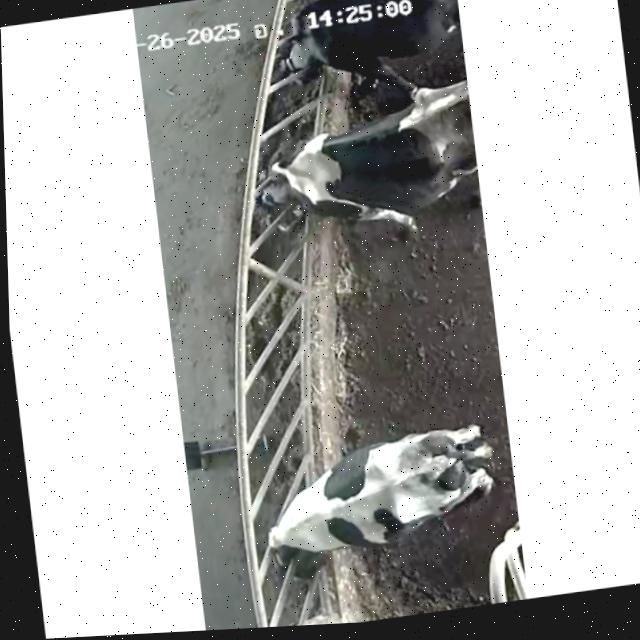eat: (219, 119, 387, 243), (225, 471, 364, 597), (233, 0, 394, 95)
